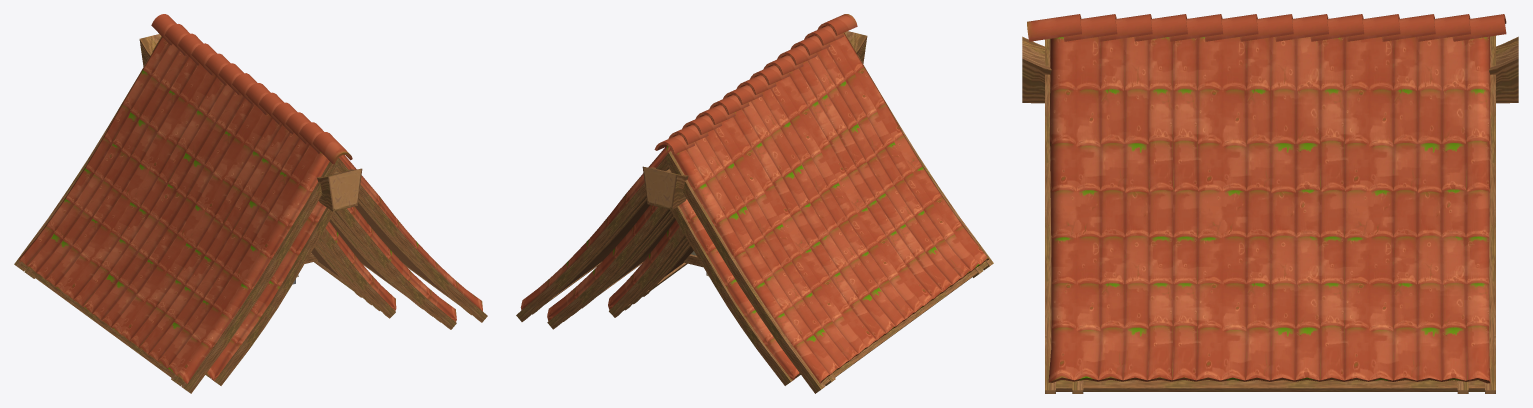
File: village.glb
The picture shows the model from 3 angles, left to right: view 1: azimuth 30°, elevation 25°; view 2: azimuth 150°, elevation 25°; view 3: azimuth 270°, elevation 25°; orthographic projection. The views are drawn at different scales.
Visible parts, largest first — view 1: Roof_RoundTiles_8x8, Roof_RoundTiles_6x8, Roof_RoundTiles_4x6, Roof_Log, Roof_RoundTiles_6x6, Roof_RoundTiles_4x4; view 2: Roof_RoundTiles_8x8, Roof_RoundTiles_6x8, Roof_RoundTiles_4x6, Roof_Log, Roof_RoundTiles_6x6, Roof_RoundTiles_4x4; view 3: Roof_RoundTiles_8x8, Roof_Log.
Boxes of the visible parts, left/top/right/bottom form: Roof_RoundTiles_8x8: left=14, top=14, right=487, bottom=393; Roof_RoundTiles_6x8: left=205, top=201, right=456, bottom=385; Roof_RoundTiles_4x6: left=313, top=221, right=396, bottom=318; Roof_Log: left=139, top=34, right=362, bottom=211; Roof_RoundTiles_6x6: left=329, top=214, right=432, bottom=316; Roof_RoundTiles_4x4: left=311, top=242, right=371, bottom=305; Roof_RoundTiles_8x8: left=516, top=14, right=993, bottom=393; Roof_RoundTiles_6x8: left=547, top=199, right=800, bottom=385; Roof_RoundTiles_4x6: left=608, top=220, right=692, bottom=317; Roof_Log: left=642, top=31, right=867, bottom=210; Roof_RoundTiles_6x6: left=572, top=212, right=675, bottom=315; Roof_RoundTiles_4x4: left=633, top=240, right=693, bottom=304; Roof_RoundTiles_8x8: left=1027, top=14, right=1506, bottom=393; Roof_Log: left=1022, top=36, right=1518, bottom=103.
Size of the model in its own units: 9.95 by 8.12 by 10.7.
9 materials, 8 textured.
